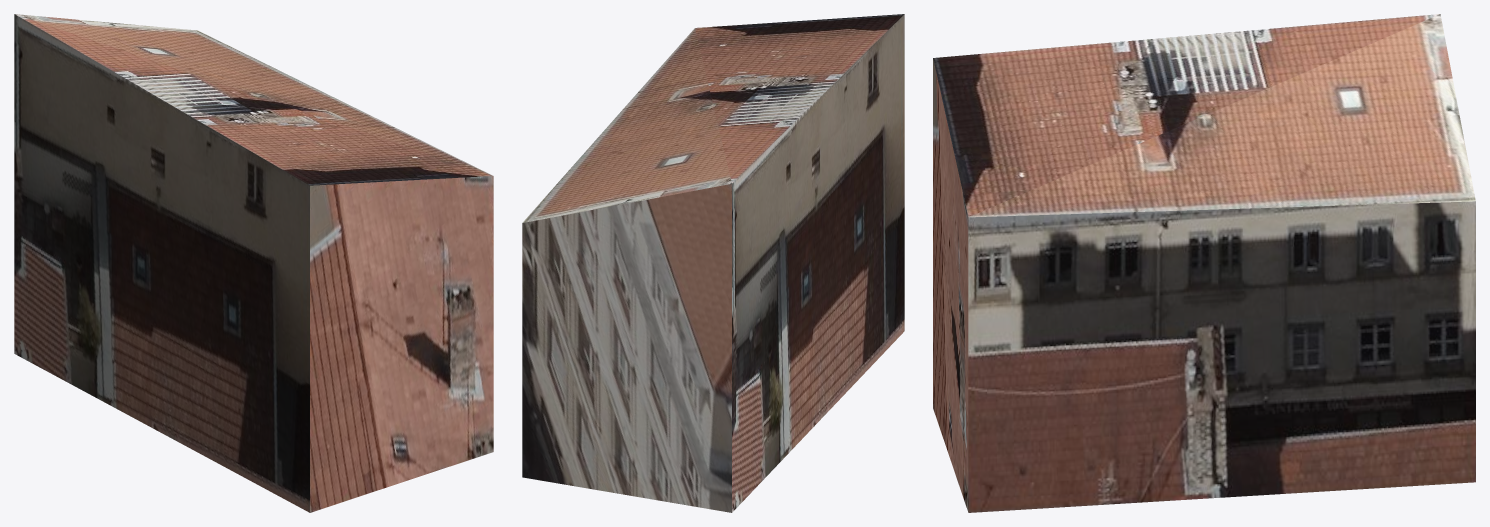
3 renders of one model, left to right at view 1: azimuth 30°, elevation 25°; view 2: azimuth 150°, elevation 25°; view 3: azimuth 270°, elevation 25°, orthographic. The views are drawn at different scales.
Parts seen in each view (by area): view 1: Z_UP; view 2: Z_UP; view 3: Z_UP.
Part boxes in pixels (left/top/right/bottom): Z_UP: left=14, top=14, right=493, bottom=512; Z_UP: left=522, top=14, right=904, bottom=512; Z_UP: left=933, top=14, right=1475, bottom=512.
Size of the model in its own units: 10.32 by 12.95 by 17.5.
Materials: 2 (1 with a texture image).
